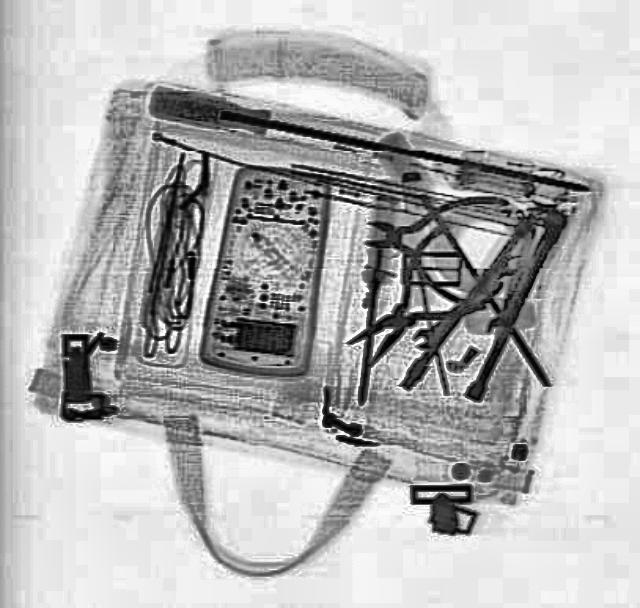Pliers: (398, 192, 588, 416), (320, 222, 508, 384), (352, 176, 508, 306)
